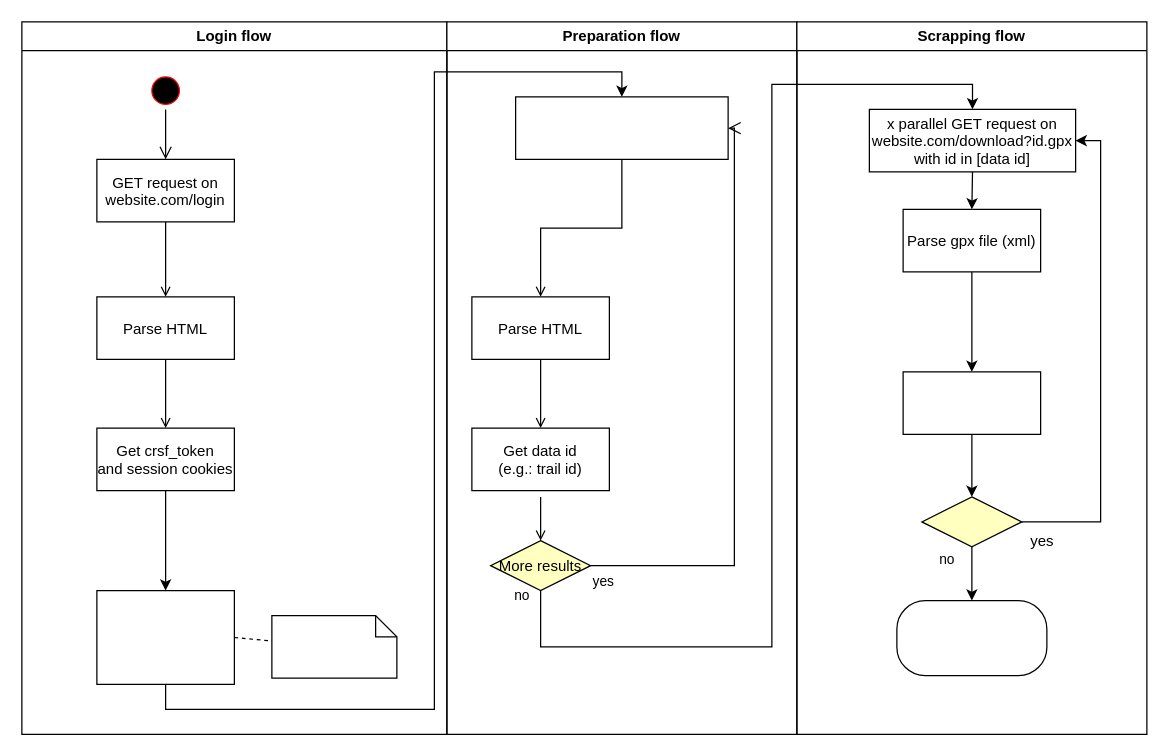
Some shapes in this 1169 by 756 pixel diagram are drawn without their labels. Here are the shapes that lost their labels. From the top down, the box of each, then its label:
(514, 96, 728, 159): x parallel GET request on website.com/search?page=y with y in [i;i+x]
(902, 371, 1041, 434): Stream data to data.json file
(921, 496, 1022, 547): More id
(96, 589, 234, 684): POST request: - crsf_token - login - password - session cookies
(271, 614, 397, 678): logged
(896, 599, 1047, 676): data.json
